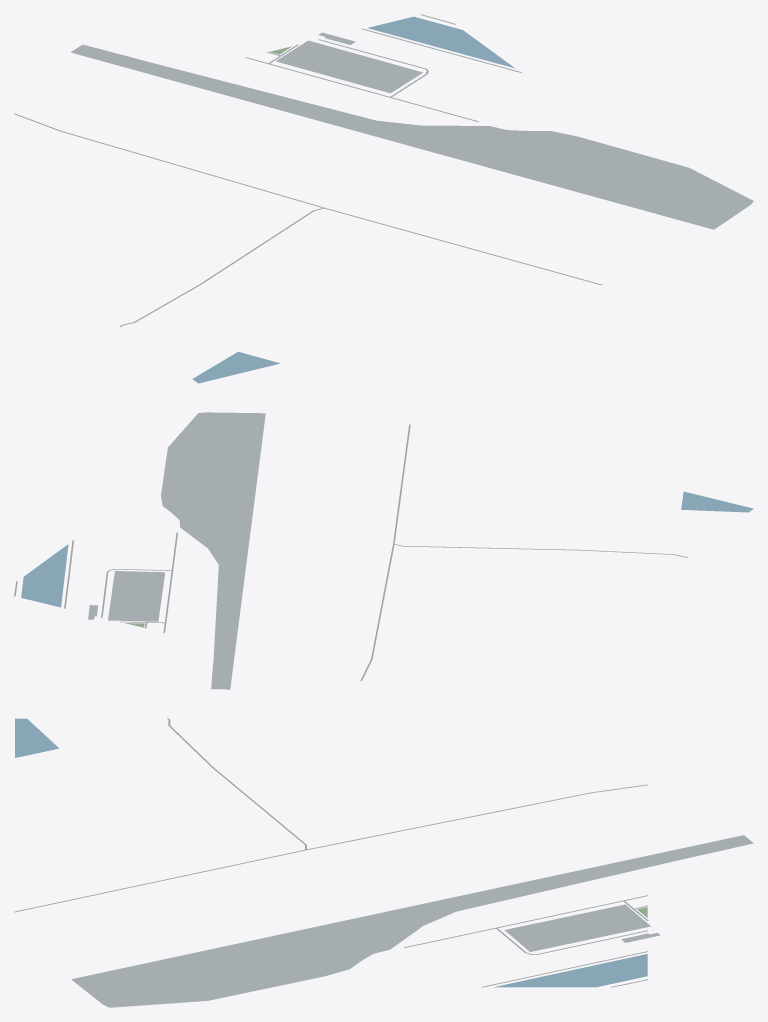
File: -25_14-known-coarse.glb
3 views of the same model, one above another, from view 1: azimuth 30°, elevation 25°; view 2: azimuth 150°, elevation 25°; view 3: azimuth 270°, elevation 25° (orthographic). The views are drawn at different scales.
Bounding box in the file's own units: 1078 × 0.15 × 1163.
